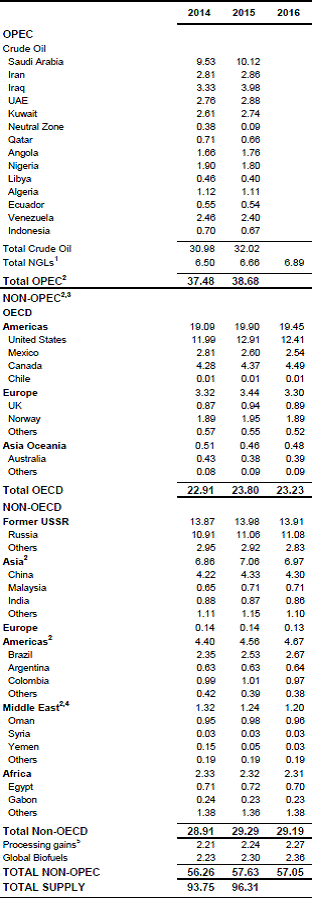fracking table: (1, 1, 312, 898)
